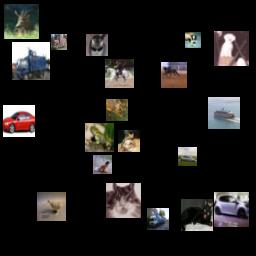automobile: (214, 192, 249, 227), (3, 105, 35, 137), (178, 147, 197, 166)
bird: (37, 192, 66, 221)
cat: (106, 183, 141, 218), (181, 199, 213, 231), (86, 34, 108, 56)
deer: (4, 4, 39, 39), (106, 99, 128, 121)
dog: (214, 31, 249, 66), (93, 155, 112, 174), (185, 32, 201, 48)
frog: (85, 123, 114, 152), (118, 130, 140, 152)
ship: (208, 97, 240, 129)
truck: (12, 42, 50, 80), (147, 208, 169, 230), (51, 34, 67, 50)
